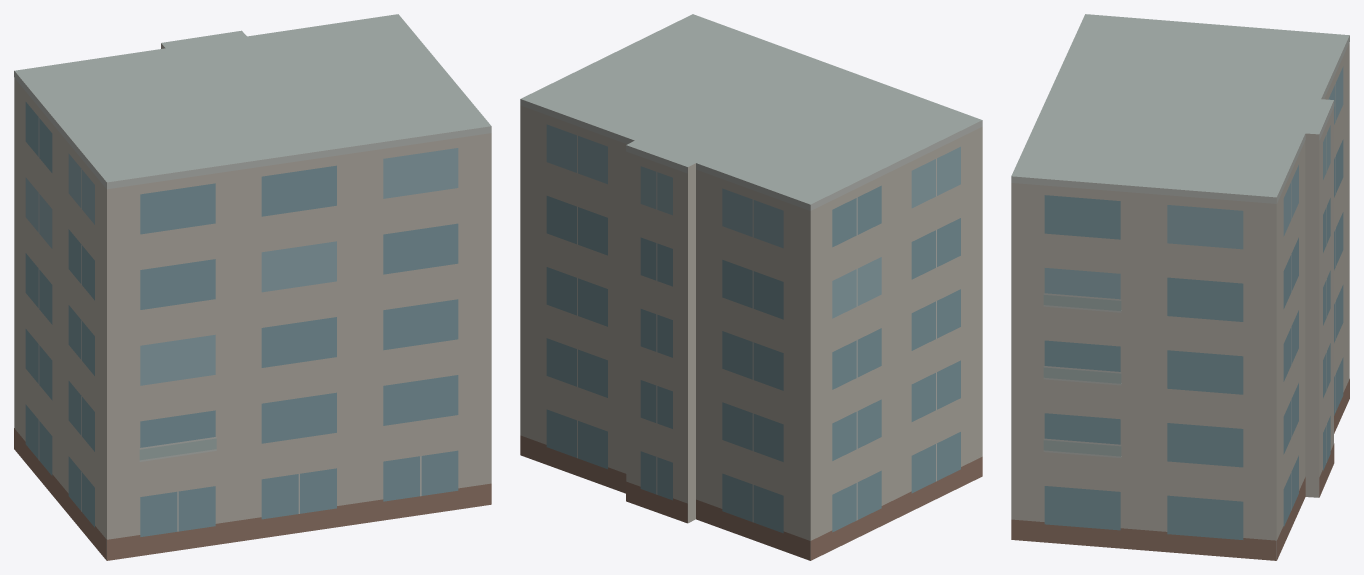
Rendered from survey-upis-32948687.glb.
3 renders of one model, left to right at view 1: azimuth 30°, elevation 25°; view 2: azimuth 150°, elevation 25°; view 3: azimuth 270°, elevation 25°, orthographic. The views are drawn at different scales.
Parts seen in each view (by area): view 1: survey-upis-32948687.tmp; view 2: survey-upis-32948687.tmp; view 3: survey-upis-32948687.tmp.
Boxes of the visible parts, left/top/right/bottom form: survey-upis-32948687.tmp: left=14, top=14, right=491, bottom=560; survey-upis-32948687.tmp: left=520, top=14, right=982, bottom=560; survey-upis-32948687.tmp: left=1011, top=14, right=1349, bottom=560.
Size of the model in its own units: 14.62 by 13.5 by 11.41.
